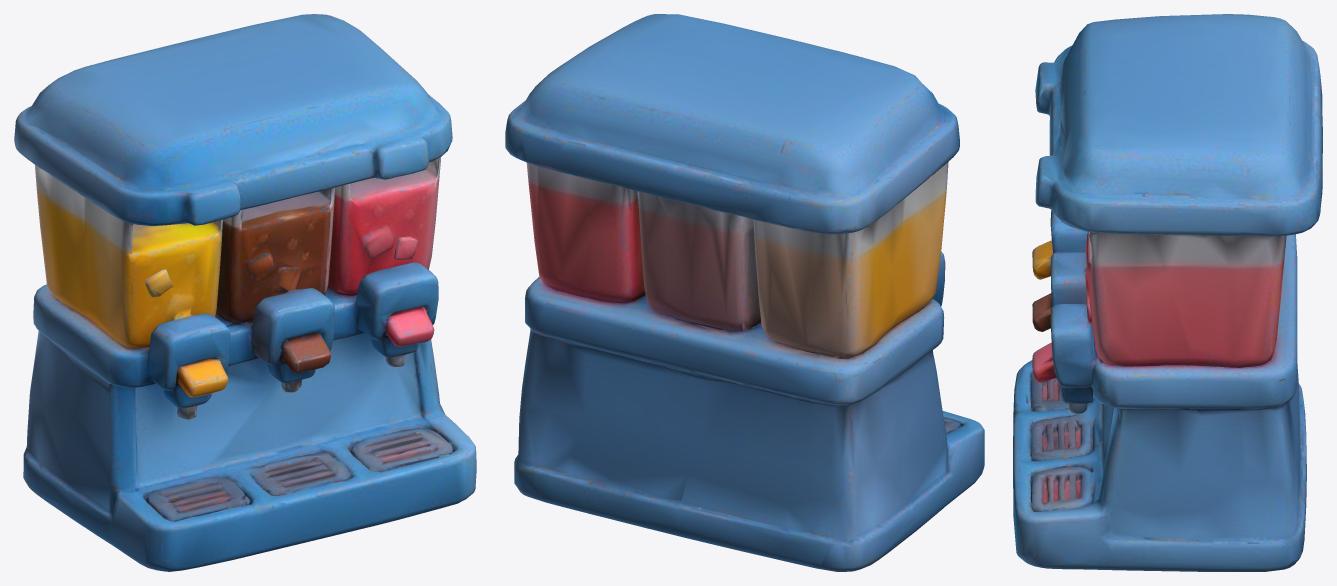
The model's file is drink_dispenser.glb.
The picture shows the model from 3 angles, left to right: view 1: azimuth 30°, elevation 25°; view 2: azimuth 150°, elevation 25°; view 3: azimuth 270°, elevation 25°; orthographic projection. The views are drawn at different scales.
Parts seen in each view (by area): view 1: drink_dispenser; view 2: drink_dispenser; view 3: drink_dispenser.
Part boxes in pixels (left/top/right/bottom): drink_dispenser: left=14, top=14, right=476, bottom=571; drink_dispenser: left=505, top=14, right=984, bottom=571; drink_dispenser: left=1013, top=14, right=1322, bottom=571.
Size of the model in its own units: 0.8854 by 0.9995 by 0.6725.
Materials: 1 (1 with a texture image).
